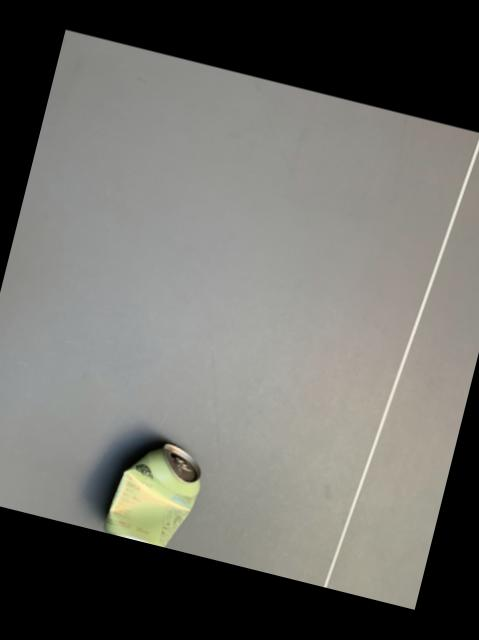metal: (105, 443, 200, 546)
